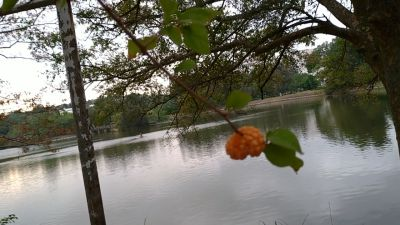eggs: (224, 123, 268, 160)
